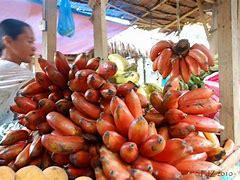banana: (9, 59, 117, 171), (92, 94, 210, 180), (150, 35, 218, 83)
